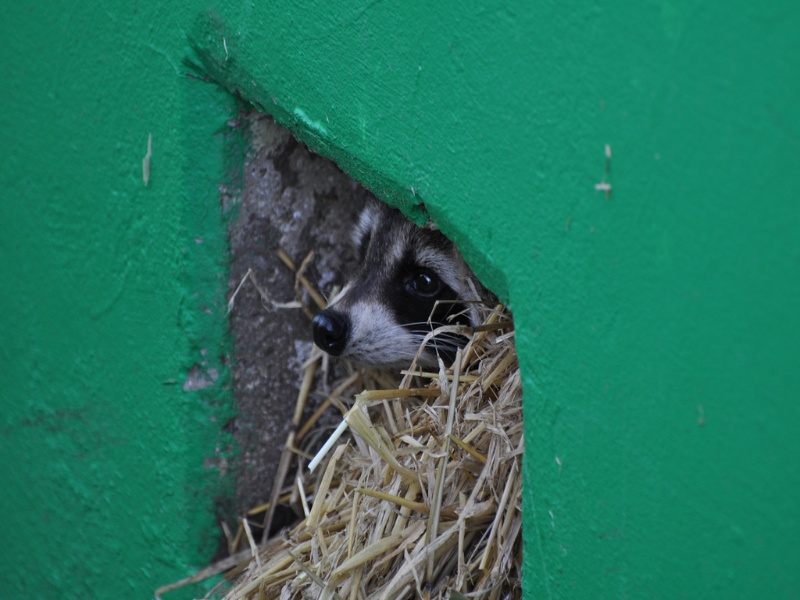raccoon: (307, 203, 487, 389)
